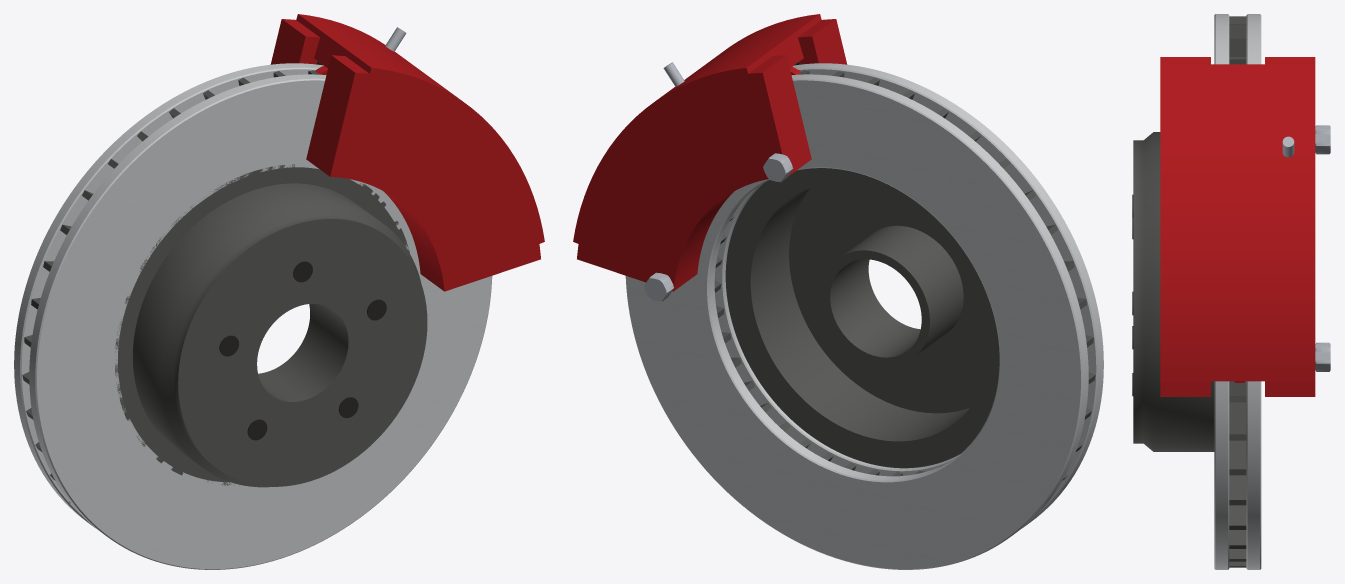
Rendered from brake-caliper-on-a-vented-brake-disc.glb.
The picture shows the model from 3 angles, left to right: view 1: azimuth 30°, elevation 25°; view 2: azimuth 150°, elevation 25°; view 3: azimuth 270°, elevation 25°; orthographic projection. The views are drawn at different scales.
Visible parts, largest first — view 1: Disc friction rings, Disc vanes and hat, Brake caliper, Wheel bolt holes; view 2: Disc friction rings, Disc vanes and hat, Brake caliper, Bolts and bleed nipple; view 3: Brake caliper, Disc vanes and hat, Disc friction rings, Bolts and bleed nipple.
Boxes of the visible parts, box(x1,y1,x2,y2) form: Disc friction rings: box(14, 63, 492, 569); Disc vanes and hat: box(22, 70, 427, 502); Brake caliper: box(270, 14, 544, 291); Wheel bolt holes: box(219, 261, 386, 440); Disc friction rings: box(625, 63, 1103, 569); Disc vanes and hat: box(714, 70, 1095, 502); Brake caliper: box(573, 14, 847, 291); Bolts and bleed nipple: box(644, 62, 792, 301); Brake caliper: box(1160, 57, 1315, 396); Disc vanes and hat: box(1133, 16, 1246, 567); Disc friction rings: box(1214, 14, 1261, 569); Bolts and bleed nipple: box(1282, 125, 1330, 371).
Bounding box in the file's own units: 0.349 × 0.3415 × 0.1176.
Materials: 5 (5 with a texture image).
